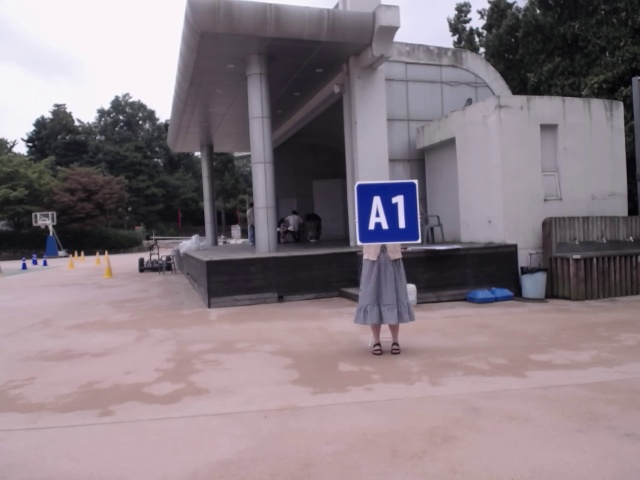delivery_a1: (355, 180, 421, 245)
